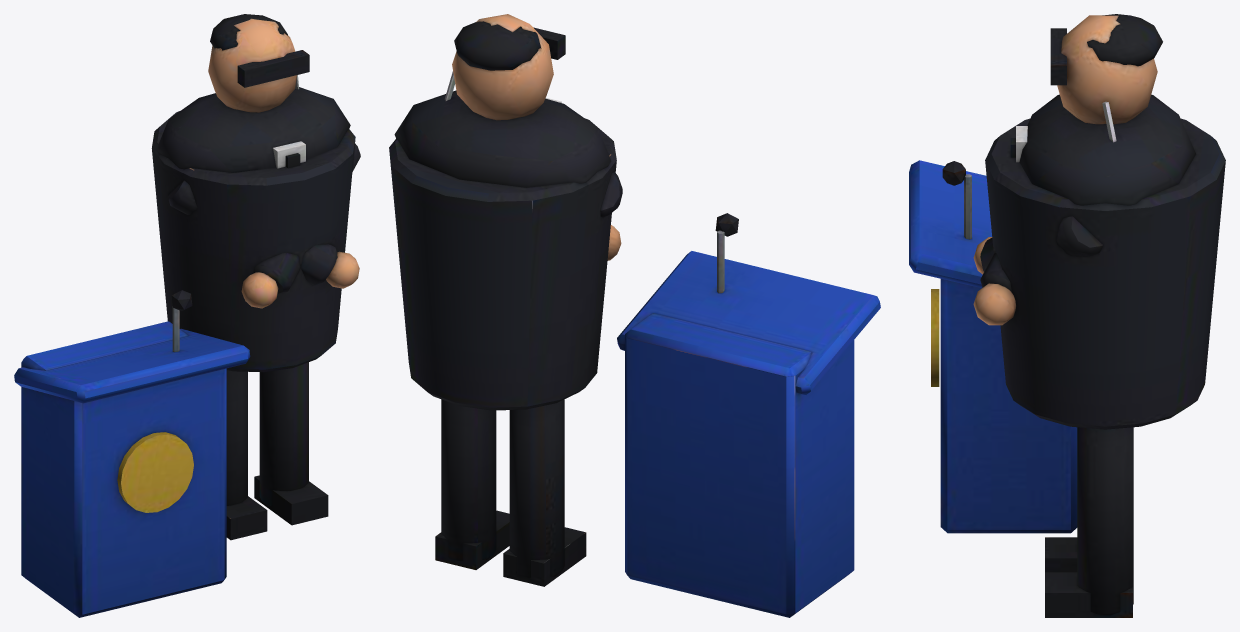
Rendered from guardaespaldas.glb.
3 views of the same model, side by side, from view 1: azimuth 30°, elevation 25°; view 2: azimuth 150°, elevation 25°; view 3: azimuth 270°, elevation 25° (orthographic). The views are drawn at different scales.
Parts seen in each view (by area): view 1: guardaespaldas; view 2: guardaespaldas; view 3: guardaespaldas.
Part boxes in pixels (bbox=[...]): guardaespaldas: bbox=[14, 14, 360, 617]; guardaespaldas: bbox=[389, 14, 880, 617]; guardaespaldas: bbox=[909, 14, 1225, 617].
Size of the model in its own units: 1.72 by 2.3 by 1.15.
1 material, 1 textured.
